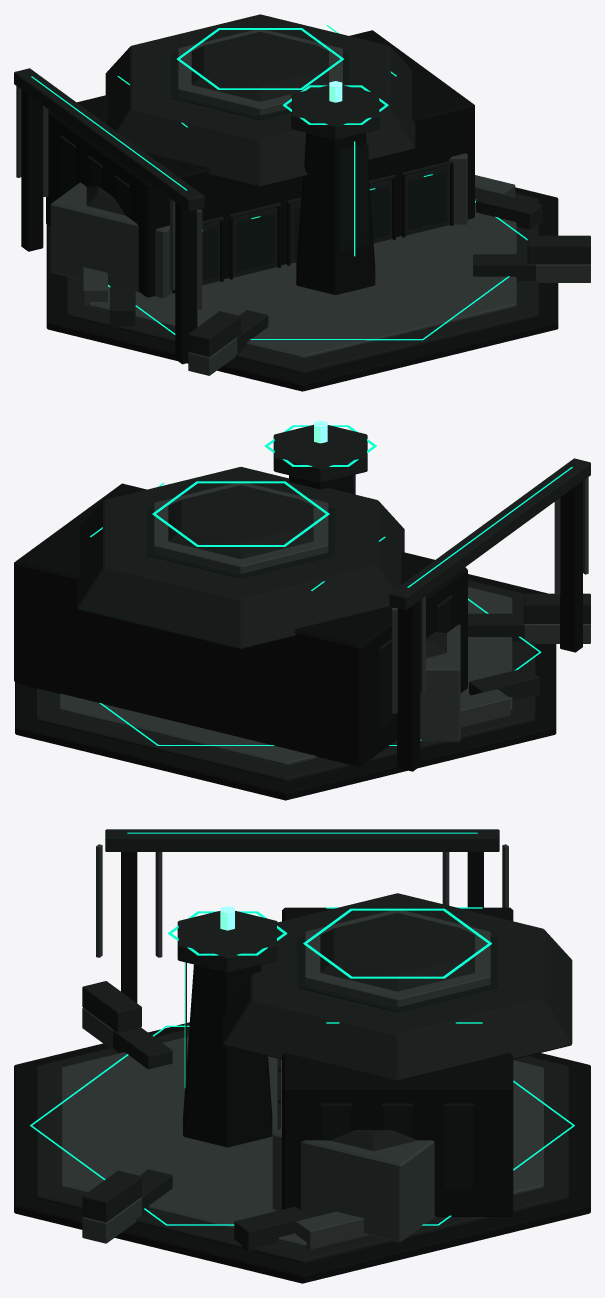
The model's file is kliniu-lod1.glb.
3 renders of one model, top to bottom at view 1: azimuth 30°, elevation 25°; view 2: azimuth 150°, elevation 25°; view 3: azimuth 270°, elevation 25°, orthographic. The views are drawn at different scales.
Parts seen in each view (by area): view 1: KLI_ServicePodium.001, KLI_TransferHallHexRoof.001, KLI_TransferHall.001, KLI_Foundation.001, KLI_AutomatedSorterCore.001, KLI_WestReceivingWing.001, KLI_LoadingDeck.001, KLI_DispatchHubTop.001, KLI_ContainerGantryBeam.001, KLI_SorterCap.001, KLI_GantrySupport_Rear.001, KLI_GantrySupport_Front.001 (+31 smaller); view 2: KLI_TransferHall.001, KLI_TransferHallHexRoof.001, KLI_Foundation.001, KLI_LoadingDeck.001, KLI_DispatchHubTop.001, KLI_ServicePodium.001, KLI_ContainerGantryBeam.001, KLI_DispatchHubBase.001, KLI_SorterCap.001, KLI_GantrySupport_Rear.001, KLI_WestReceivingWing.001, KLI_GantrySupport_Front.001 (+13 smaller); view 3: KLI_TransferHallHexRoof.001, KLI_ServicePodium.001, KLI_TransferHall.001, KLI_Foundation.001, KLI_LoadingDeck.001, KLI_EastReceivingWing.001, KLI_AutomatedSorterCore.001, KLI_DispatchHubTop.001, KLI_ContainerGantryBeam.001, KLI_DispatchHubBase.001, KLI_SorterCap.001, KLI_GantrySupport_Front.001 (+19 smaller).
Part boxes in pixels (x1,y1,x2,y2): KLI_ServicePodium.001: (88,199,516,359); KLI_TransferHallHexRoof.001: (105,14,415,186); KLI_TransferHall.001: (46,30,474,297); KLI_Foundation.001: (46,187,558,391); KLI_AutomatedSorterCore.001: (296,133,375,294); KLI_WestReceivingWing.001: (50,182,172,297); KLI_LoadingDeck.001: (66,193,538,374); KLI_DispatchHubTop.001: (191,32,328,101); KLI_ContainerGantryBeam.001: (14,68,204,211); KLI_SorterCap.001: (291,85,379,139); KLI_GantrySupport_Rear.001: (21,90,43,251); KLI_GantrySupport_Front.001: (175,202,197,364); KLI_TransferHall.001: (14,483,467,767); KLI_TransferHallHexRoof.001: (77,467,404,649); KLI_Foundation.001: (15,574,556,800); KLI_LoadingDeck.001: (36,580,535,782); KLI_DispatchHubTop.001: (168,485,313,558); KLI_ServicePodium.001: (59,587,512,766); KLI_ContainerGantryBeam.001: (389,458,590,610); KLI_DispatchHubBase.001: (153,483,328,573); KLI_SorterCap.001: (273,425,367,482); KLI_GantrySupport_Rear.001: (397,600,420,771); KLI_WestReceivingWing.001: (394,624,460,742); KLI_GantrySupport_Front.001: (560,481,582,652); KLI_TransferHallHexRoof.001: (223,893,572,1079); KLI_ServicePodium.001: (61,1036,543,1247); KLI_TransferHall.001: (282,907,513,1216); KLI_Foundation.001: (14,1022,590,1283); KLI_LoadingDeck.001: (36,1029,568,1264); KLI_EastReceivingWing.001: (272,1128,435,1242); KLI_AutomatedSorterCore.001: (183,964,272,1147); KLI_DispatchHubTop.001: (320,913,474,991); KLI_ContainerGantryBeam.001: (105,829,499,851); KLI_DispatchHubBase.001: (304,910,490,1007); KLI_SorterCap.001: (177,911,277,972); KLI_GantrySupport_Front.001: (121,852,137,1002).
Bounding box in the file's own units: 97.8 × 38 × 84.87.
